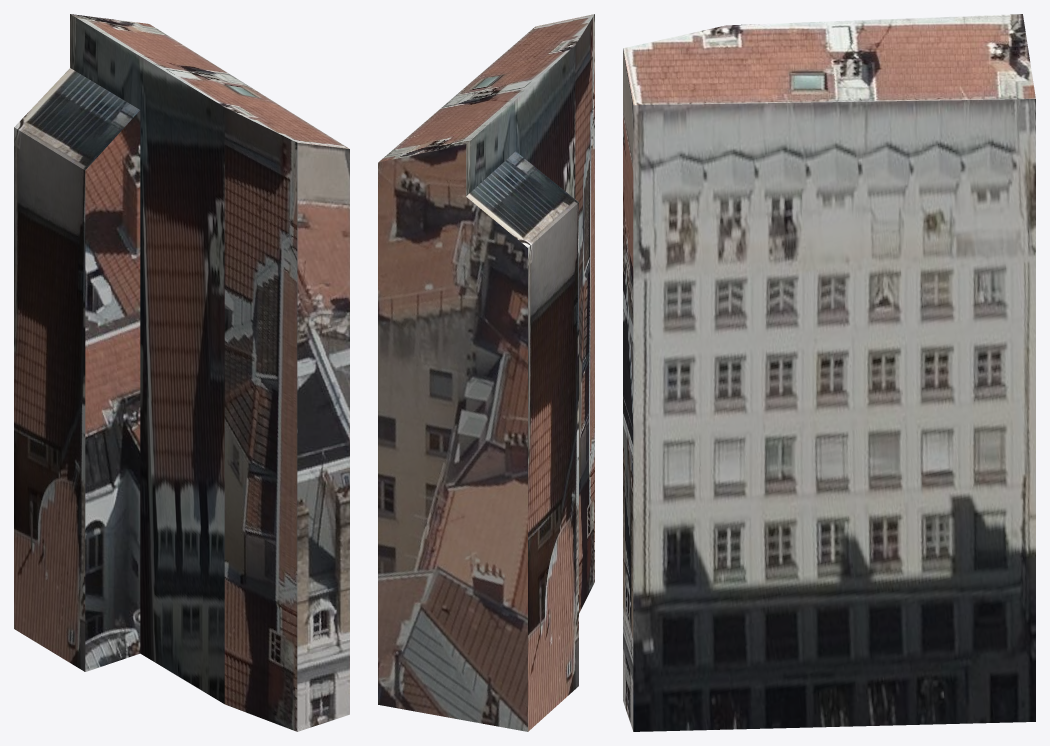
3 views of the same model, side by side, from view 1: azimuth 30°, elevation 25°; view 2: azimuth 150°, elevation 25°; view 3: azimuth 270°, elevation 25° (orthographic). The views are drawn at different scales.
Visible parts, largest first — view 1: Z_UP; view 2: Z_UP; view 3: Z_UP.
Part boxes in pixels (<box>): Z_UP: <box>14,14,349,731</box>; Z_UP: <box>378,14,594,731</box>; Z_UP: <box>623,14,1035,731</box>.
Bounding box in the file's own units: 8.13 × 28.3 × 16.
Materials: 2 (1 with a texture image).
